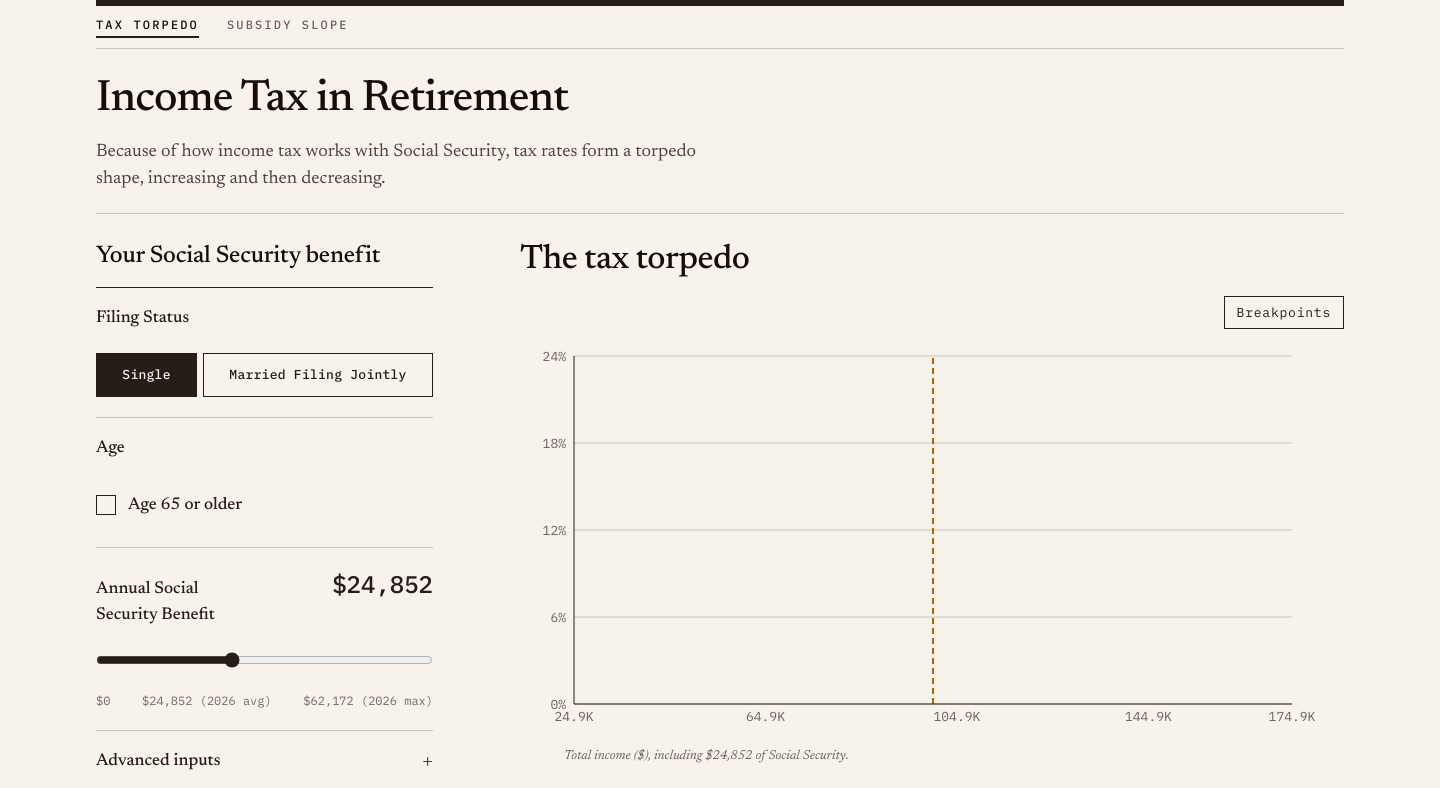
Scenario: holds still when the benefit moves, and the caption says why
The image size is (1440, 788).
Set the slider labelled "Annual Social Security Benefit" to "36000" at coordinates (290, 660), box x1=96 y1=638 x2=433 y2=682
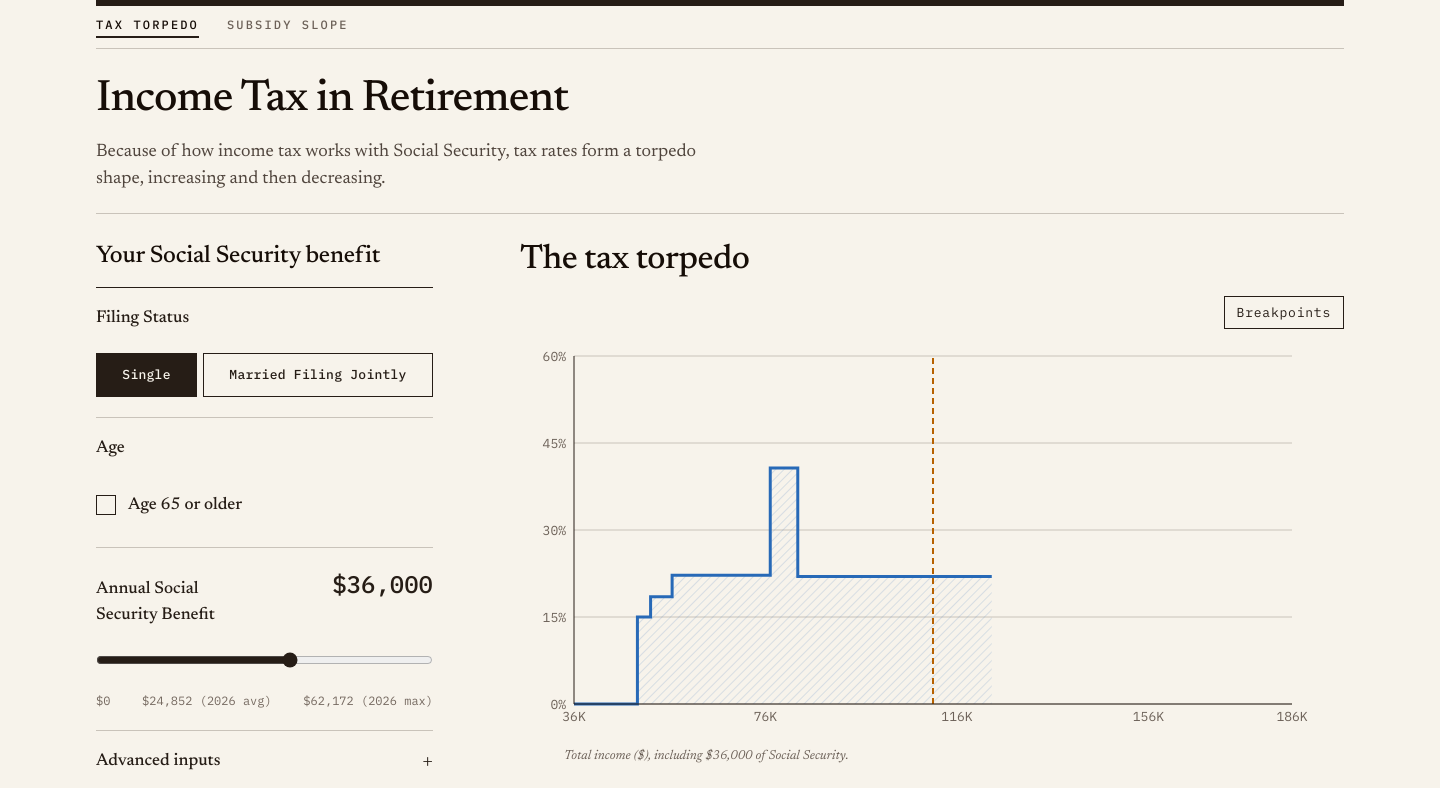
Expected: the text with class "chart-axis-label" reads "Total income ($), including $36,000 of Social Security.", x1=564 y1=749 x2=849 y2=762
